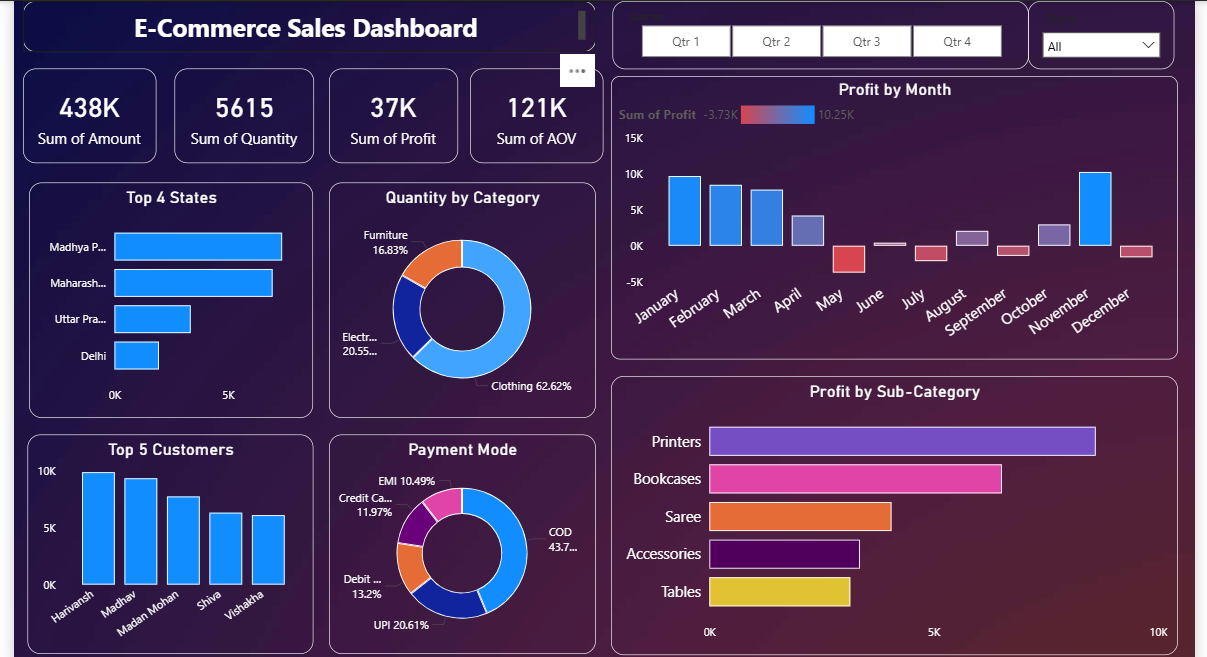

The dashboard page shown, as its layout file describes it:
{"tool":"powerbi","page":{"name":"Page 1","canvas":[1280,720],"ordinal":0},"visuals":[{"type":"textbox","box":[9.8,0,621.3,55.3],"z":0},{"type":"clusteredColumnChart","title":"Profit by Month","fields":{"Y":["Sum(Details.Profit)"],"Category":["Orders.Order Date.Variation.Date Hierarchy.Month"]},"box":[647.4,81.3,614.8,307.4],"z":1000},{"type":"clusteredBarChart","title":"Profit by Sub-Category","fields":{"Category":["Details.Sub-Category"],"Y":["Sum(Details.Profit)"]},"box":[647.4,406.6,614.8,302.5],"z":2000},{"type":"donutChart","title":"Quantity by Category","fields":{"Category":["Details.Category"],"Y":["Sum(Details.Quantity)"]},"box":[342,196.5,289.1,255.1],"z":3000},{"type":"donutChart","title":"Quantity by Category","fields":{"Category":["Details.PaymentMode"],"Y":["Sum(Details.Quantity)"]},"box":[342,470.6,289.1,238.1],"z":4000},{"type":"card","fields":{"Values":["Sum(Details.Amount)"]},"box":[9.8,73.2,144.8,102.5],"z":5000},{"type":"card","fields":{"Values":["Sum(Details.Quantity)"]},"box":[174,73.2,151.3,102.5],"z":6000},{"type":"card","fields":{"Values":["Sum(Details.Profit)"]},"box":[341.6,73.2,139.9,102.5],"z":7000},{"type":"card","fields":{"Values":["Sum(Details.AOV)"]},"box":[494.5,73.2,144.8,102.5],"z":8000},{"type":"clusteredBarChart","title":"Profit by Sub-Category","fields":{"Y":["Sum(Details.Profit)"],"Category":["Orders.State"]},"box":[17,196.5,308,255.1],"z":9000},{"type":"columnChart","fields":{"Category":["Orders.CustomerName"],"Y":["Sum(Details.Amount)"]},"box":[15.1,470.6,309.9,238.1],"z":10000},{"type":"slicer","fields":{"Values":["Orders.Order Date.Variation.Date Hierarchy.Quarter"]},"box":[648.2,0,451.7,73.7],"z":11000},{"type":"slicer","fields":{"Values":["Orders.State"]},"box":[1099.9,0,158.7,73.7],"z":11001}]}

Visuals, with their boxes on the page's 1280x720 design canvas (x1, y1, x2, y2). These are canvas units, not pixel positions in the 1207x657 screenshot, which may show the page scaled, cropped or inside an application window:
textbox: pyautogui.locateOnScreen(10, 0, 631, 55)
"Profit by Month" clusteredColumnChart: pyautogui.locateOnScreen(647, 81, 1262, 389)
"Profit by Sub-Category" clusteredBarChart: pyautogui.locateOnScreen(647, 407, 1262, 709)
"Quantity by Category" donutChart: pyautogui.locateOnScreen(342, 196, 631, 452)
"Quantity by Category" donutChart: pyautogui.locateOnScreen(342, 471, 631, 709)
card - Sum(Details.Amount): pyautogui.locateOnScreen(10, 73, 155, 176)
card - Sum(Details.Quantity): pyautogui.locateOnScreen(174, 73, 325, 176)
card - Sum(Details.Profit): pyautogui.locateOnScreen(342, 73, 482, 176)
card - Sum(Details.AOV): pyautogui.locateOnScreen(494, 73, 639, 176)
"Profit by Sub-Category" clusteredBarChart: pyautogui.locateOnScreen(17, 196, 325, 452)
columnChart - Orders.CustomerName x Sum(Details.Amount): pyautogui.locateOnScreen(15, 471, 325, 709)
slicer - Orders.Order Date.Variation.Date Hierarchy.Quarter: pyautogui.locateOnScreen(648, 0, 1100, 74)
slicer - Orders.State: pyautogui.locateOnScreen(1100, 0, 1259, 74)
